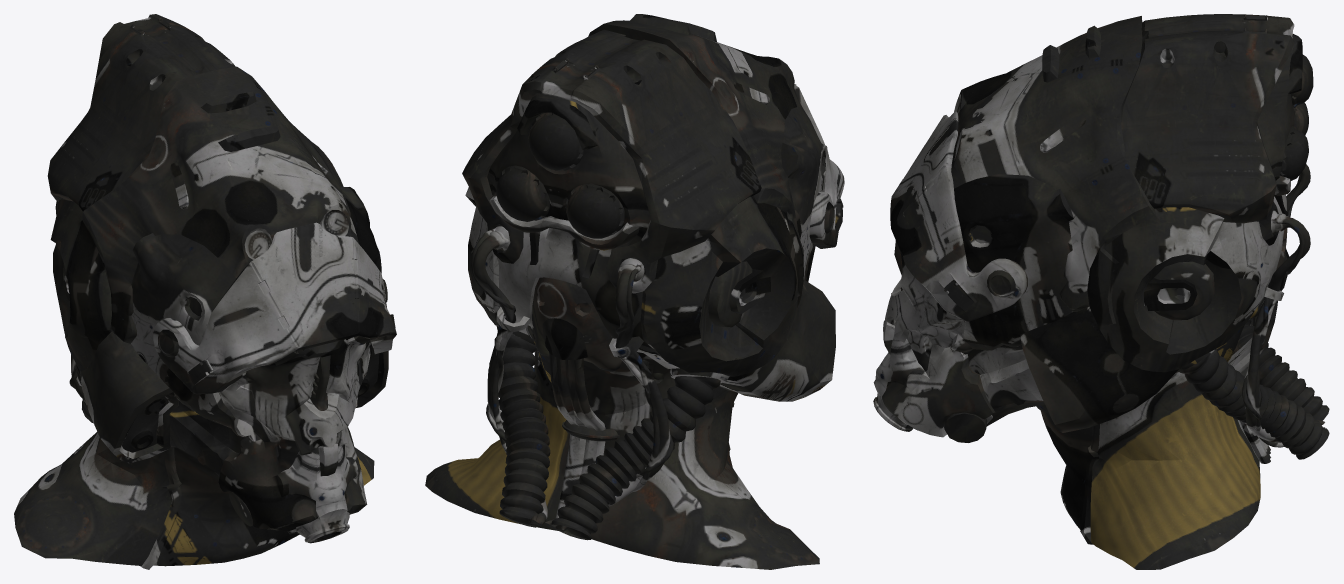
The picture shows the model from 3 angles, left to right: view 1: azimuth 30°, elevation 25°; view 2: azimuth 150°, elevation 25°; view 3: azimuth 270°, elevation 25°; orthographic projection. The views are drawn at different scales.
Size of the model in its own units: 2.3 by 2.92 by 2.5.
